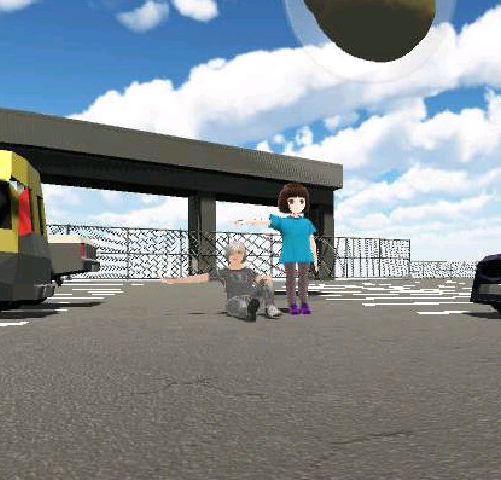doubleP_left: (157, 183, 324, 322)
